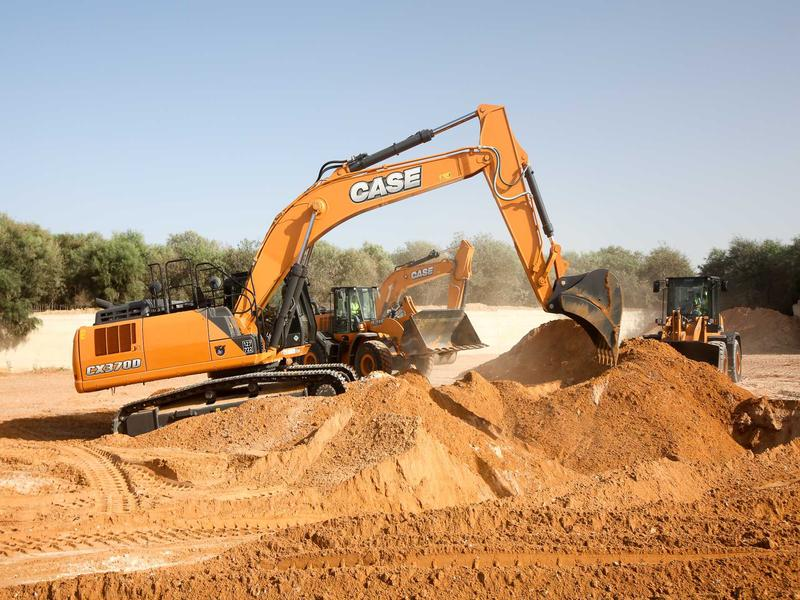shovel: (65, 95, 627, 439)
